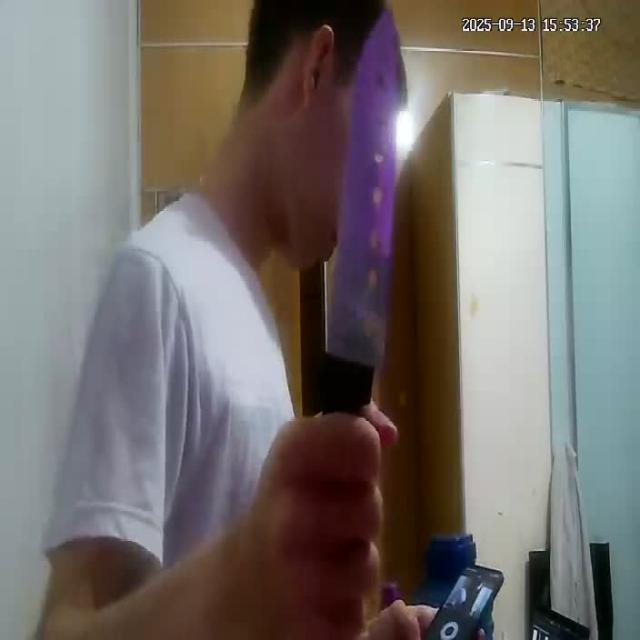senjata_tajam: (317, 7, 397, 417)
